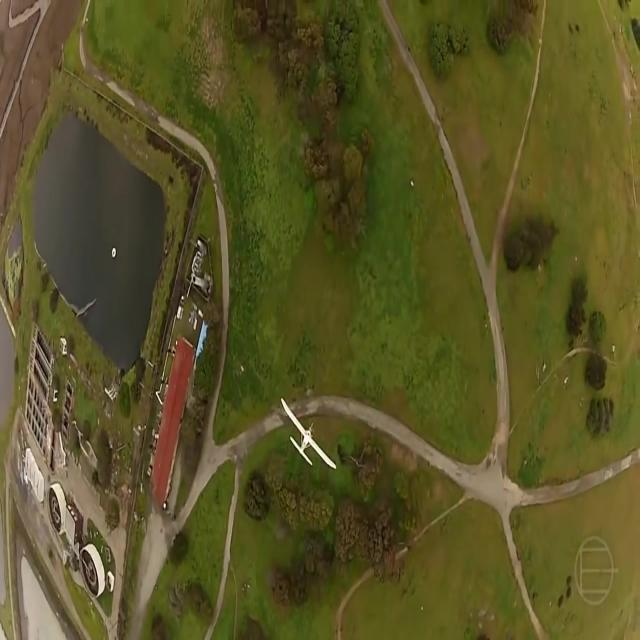iha: (280, 432, 338, 435)
